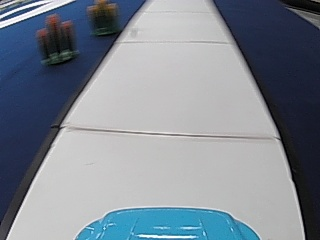corn: (36, 12, 77, 66), (86, 0, 119, 35)
